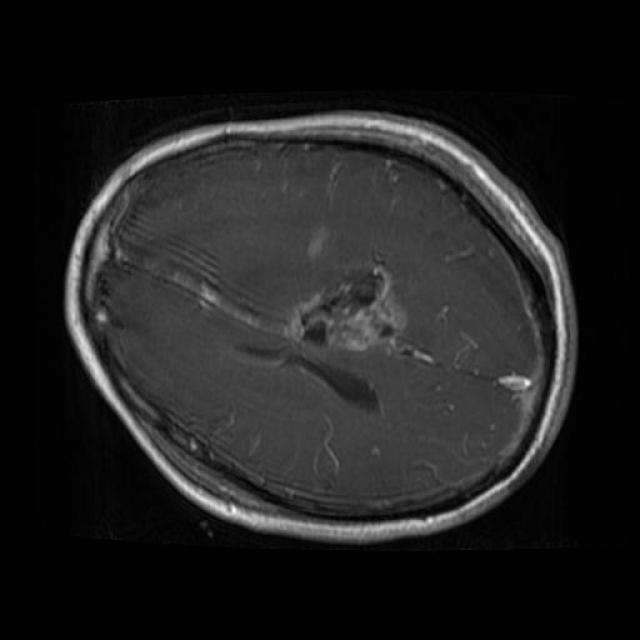Glioma: (283, 262, 433, 362)
